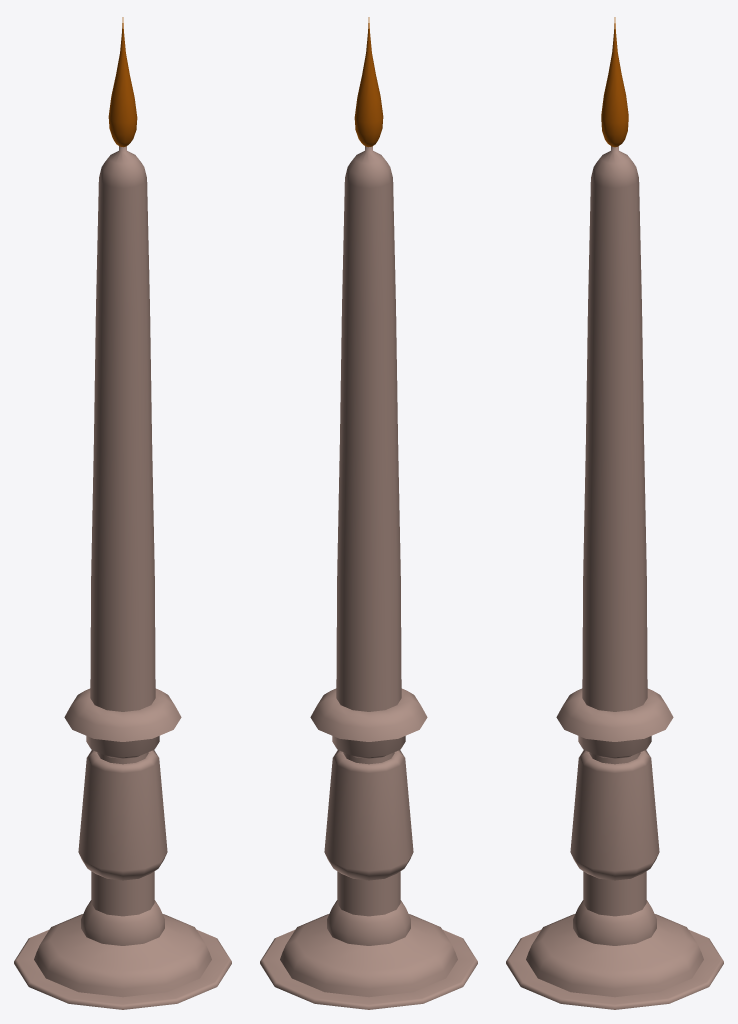
The model's file is candlelight_anim.fbx.
3 views of the same model, side by side, from view 1: azimuth 30°, elevation 25°; view 2: azimuth 150°, elevation 25°; view 3: azimuth 270°, elevation 25° (orthographic).
Visible parts, largest first — view 1: candle2, fire5; view 2: candle2, fire5; view 3: candle2, fire5.
Part boxes in pixels (left/top/right/bottom): candle2: left=14, top=146, right=231, bottom=1009; fire5: left=108, top=17, right=137, bottom=147; candle2: left=260, top=146, right=477, bottom=1009; fire5: left=354, top=17, right=383, bottom=147; candle2: left=506, top=146, right=723, bottom=1009; fire5: left=601, top=17, right=628, bottom=147.
Bounding box in the file's own units: 0.0774 × 0.3727 × 0.0774.
